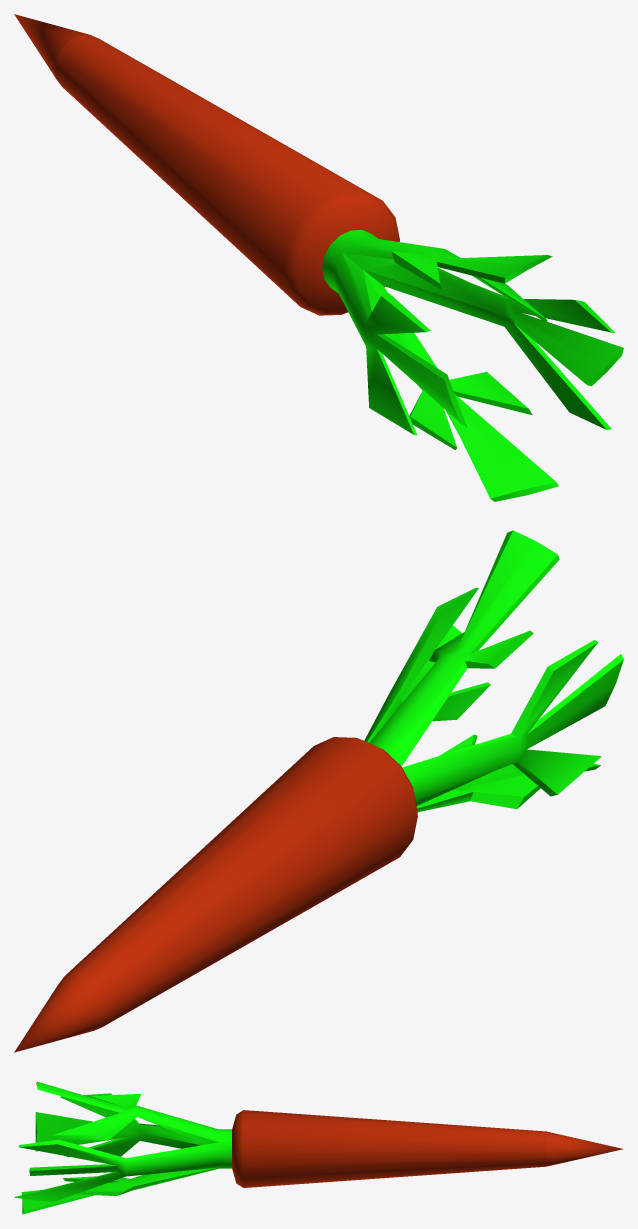
The model's file is carrot_basic.obj.
The picture shows the model from 3 angles, top to bottom: view 1: azimuth 30°, elevation 25°; view 2: azimuth 150°, elevation 25°; view 3: azimuth 270°, elevation 25°; orthographic projection. The views are drawn at different scales.
Visible parts, largest first — view 1: 0, 1; view 2: 0, 1; view 3: 0, 1.
Boxes of the visible parts, left/top/right/bottom form: 0: left=14, top=14, right=399, bottom=315; 1: left=322, top=230, right=623, bottom=501; 0: left=14, top=737, right=417, bottom=1052; 1: left=364, top=530, right=623, bottom=812; 0: left=232, top=1110, right=623, bottom=1187; 1: left=14, top=1081, right=231, bottom=1214.
Bounding box in the file's own units: 0.0985 × 0.1161 × 0.4955.
